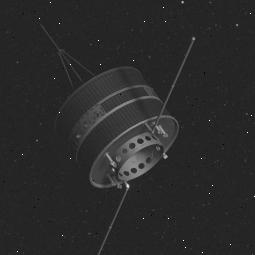double_start: (65, 47, 183, 197)
